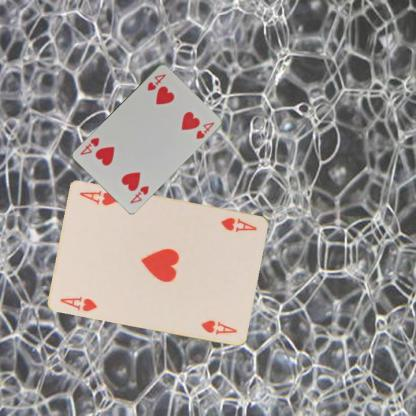4h: (127, 182, 150, 204), (144, 71, 167, 92)
Ah: (218, 214, 258, 233), (58, 294, 98, 312)
